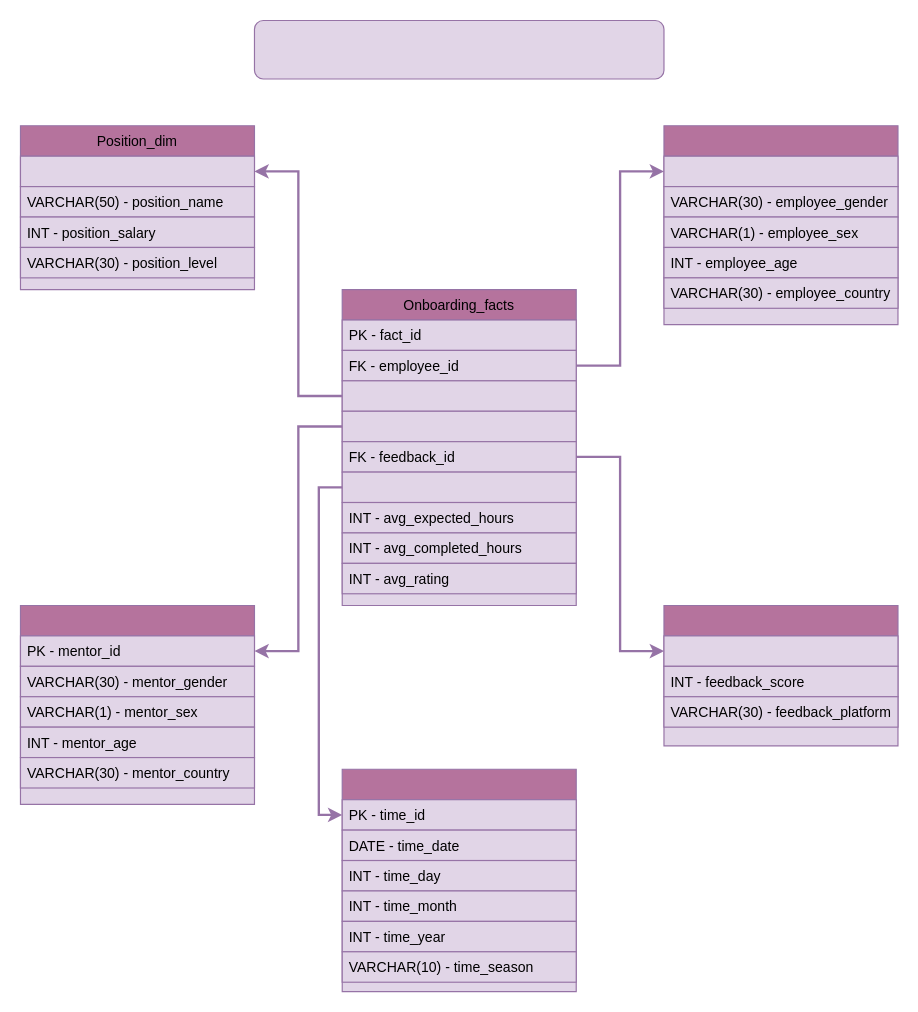
Some shapes in this 918 by 1012 pixel diagram are drawn without their labels. Each missing label, with the box of its shape:
Employee_dim: (663, 125, 898, 325)
Feedback_dim: (663, 604, 898, 746)
FK - mentor_id: (341, 410, 576, 442)
FK - position_id: (341, 380, 576, 411)
FK - time_id: (341, 471, 576, 503)
Mentor_dim: (19, 604, 254, 804)
PK - employee_id: (663, 155, 898, 187)
PK - feedback_id: (663, 635, 898, 666)
PK - position_id: (19, 155, 254, 187)
SAP SuccessFactors (people onboarding) HR Director: (253, 19, 664, 79)
Time_dim: (341, 768, 576, 992)
